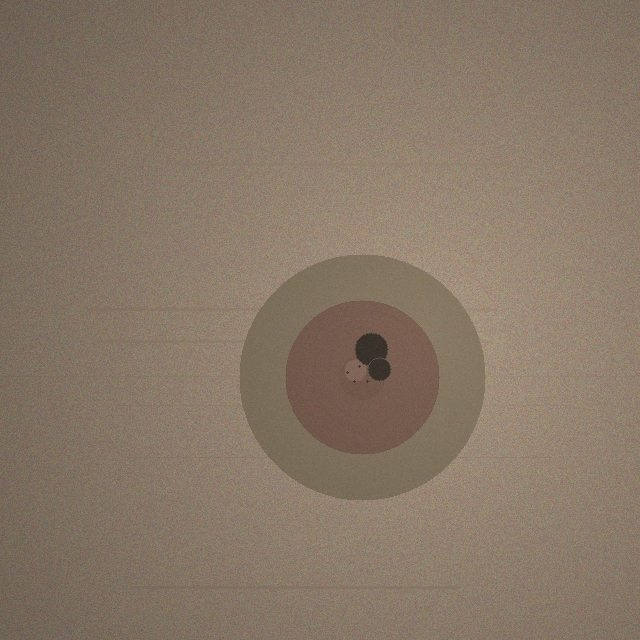shrinkage: (239, 254, 485, 500)
